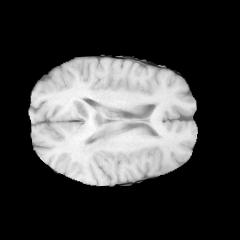glioma: (70, 98, 115, 156)
